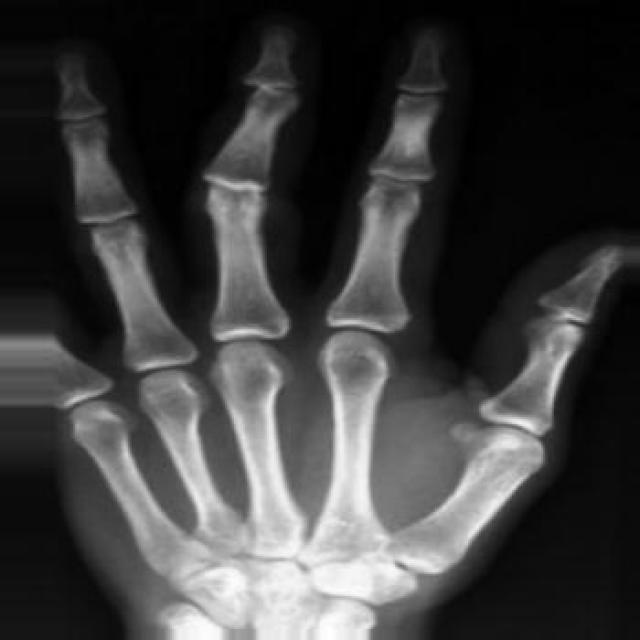Fracture: (227, 70, 307, 106)
